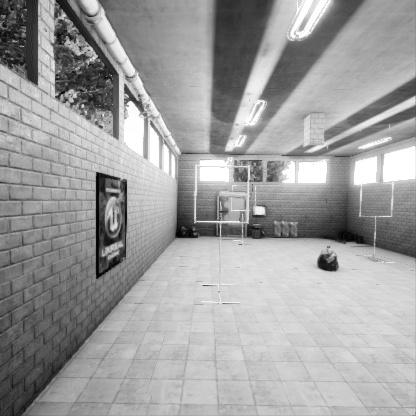gate: (195, 195, 253, 253), (363, 199, 399, 235), (231, 205, 257, 231)
